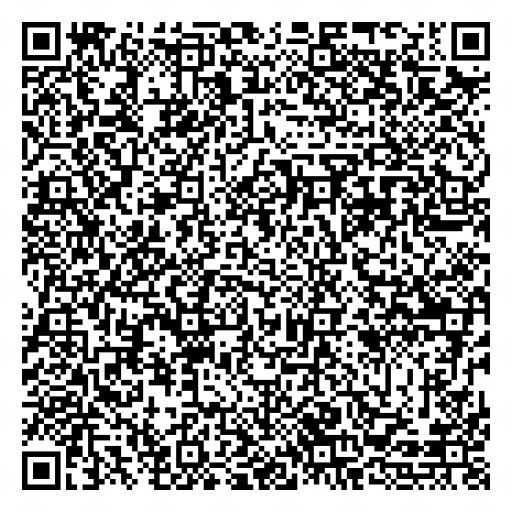qr_code: (21, 21, 491, 491)
